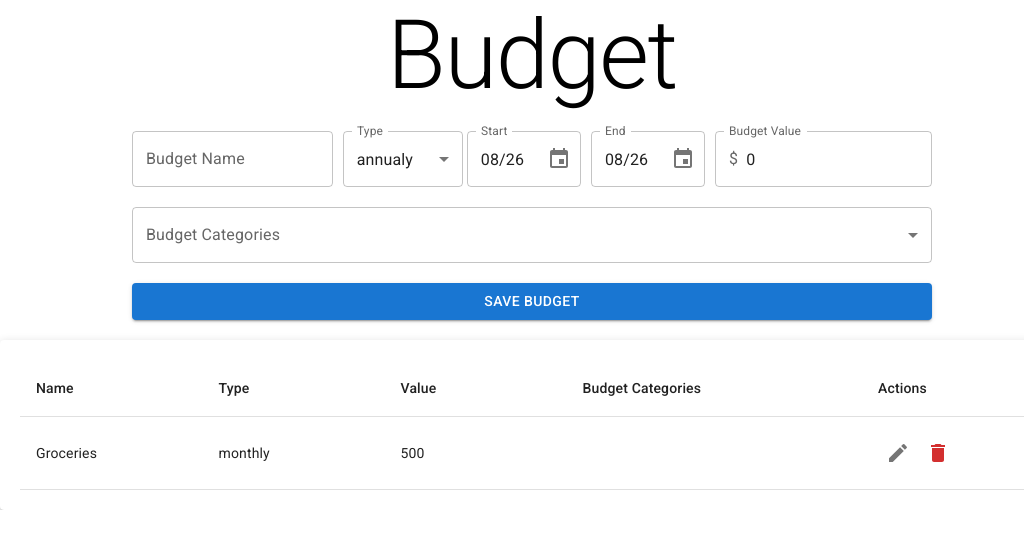
BudgetPage › should clear the budget form when Deselect is clicked after editing
Click the button named "Edit" at (898, 452), box [878,432,918,472]
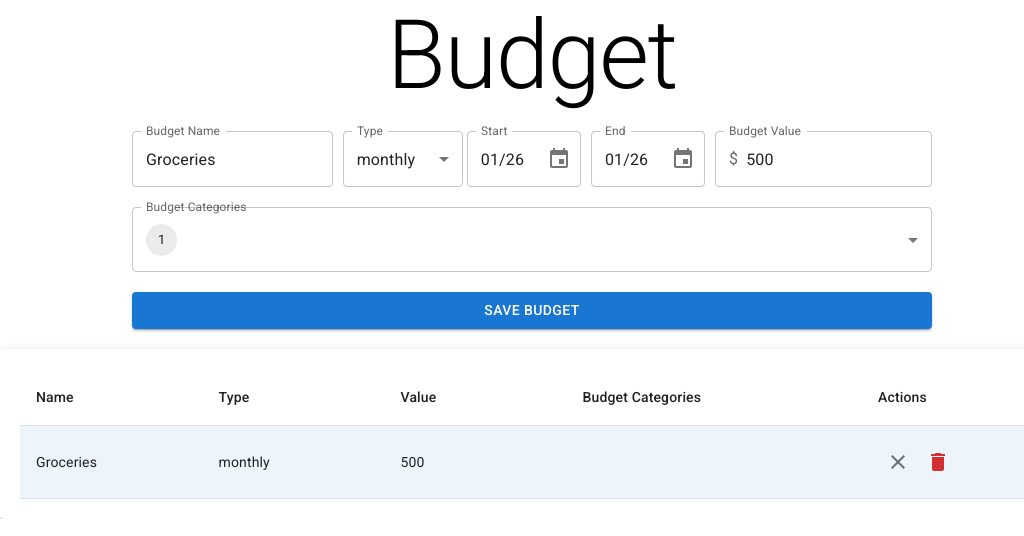
Check: the field labelled "Budget Name" holds "Groceries", box [132,131,333,187]
Check: the button named "Deselect" is shown
Click the button named "Deselect" at (898, 462), box [878,442,918,482]
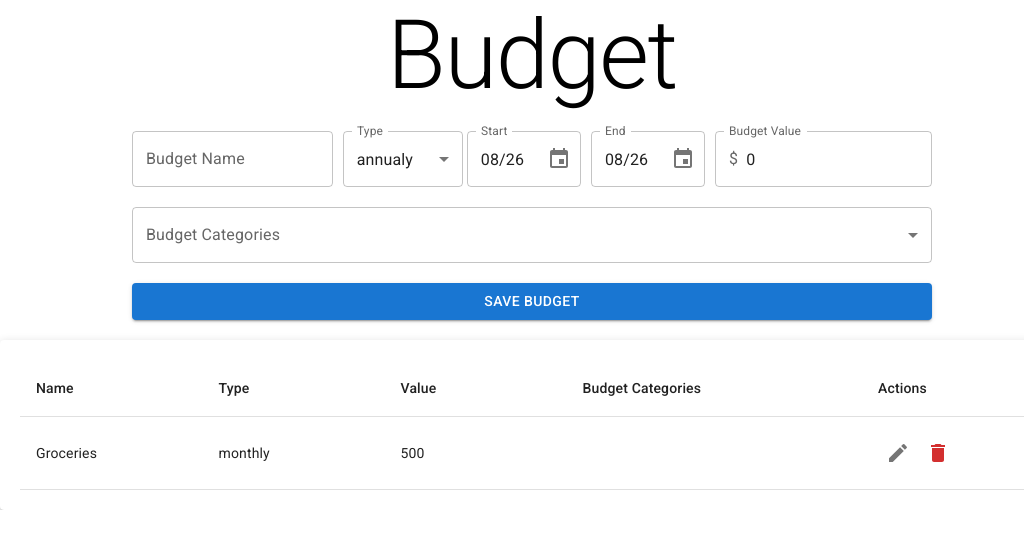
Check: the field labelled "Budget Name" is empty, box [132,131,333,187]
Check: the button named "Edit" is shown, box [878,432,918,472]
